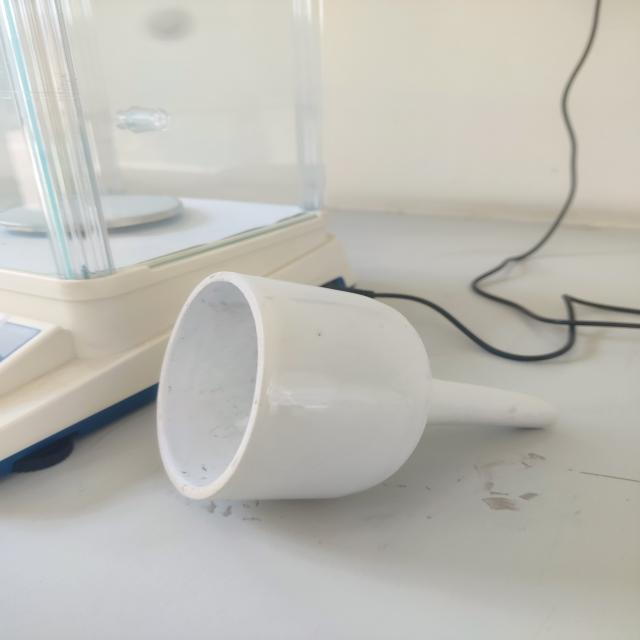Buchner_Funnel: (120, 228, 585, 541)
